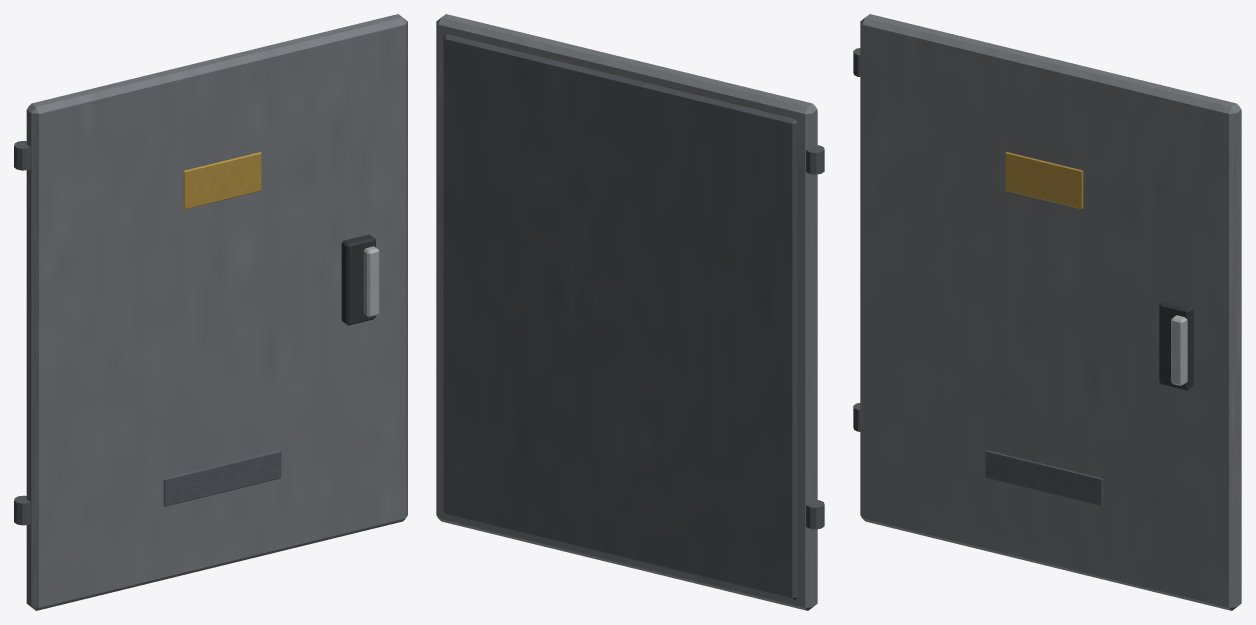
File: electrical_panel_door.glb
3 views of the same model, side by side, from view 1: azimuth 30°, elevation 25°; view 2: azimuth 150°, elevation 25°; view 3: azimuth 330°, elevation 25° (orthographic).
Parts seen in each view (by area): view 1: Electrical Panel Door | pivot at hinge; view 2: Electrical Panel Door | pivot at hinge; view 3: Electrical Panel Door | pivot at hinge.
Part boxes in pixels (box(x1,y1,x2,y2)): Electrical Panel Door | pivot at hinge: box(14, 14, 407, 610); Electrical Panel Door | pivot at hinge: box(436, 14, 824, 610); Electrical Panel Door | pivot at hinge: box(853, 14, 1241, 610).
Bounding box in the file's own units: 0.5594 × 0.696 × 0.061.
1 material, 1 textured.
